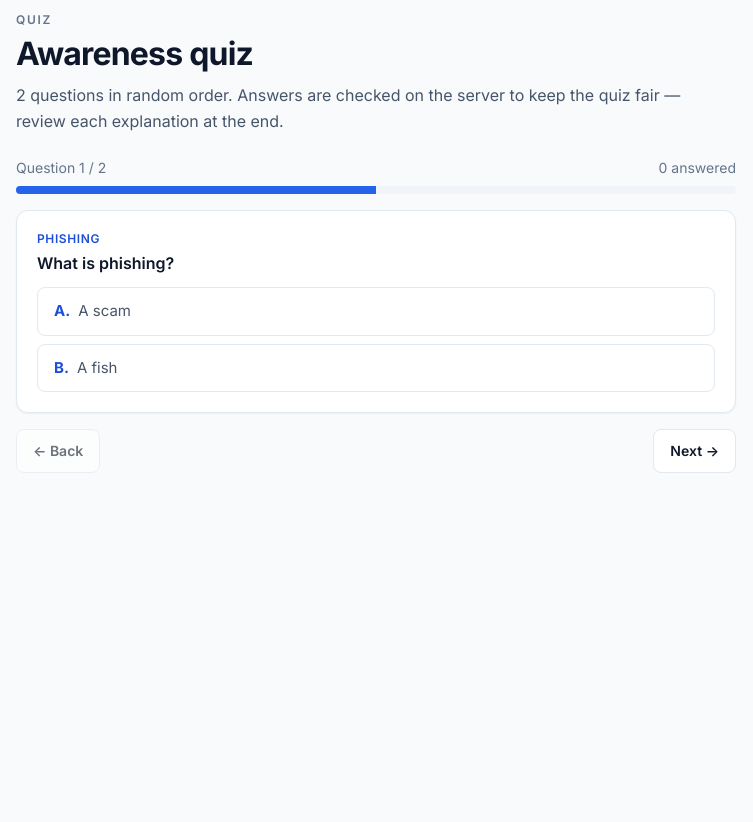
Test: quiz page › answering all questions and submitting shows the score
The width and height of the screenshot is (753, 822).
Expected: the text "What is phishing?" is shown, [37,253,174,273]
Click the button "A.A scam": [105, 310] box [37,287,715,336]
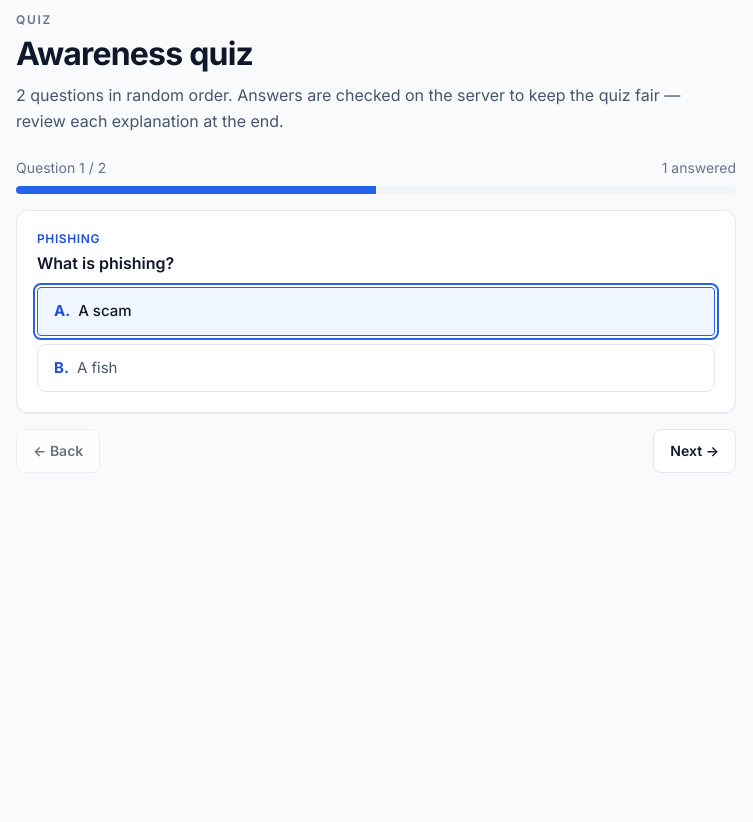
Click the button "Next →": [695, 451] box [653,429,736,473]
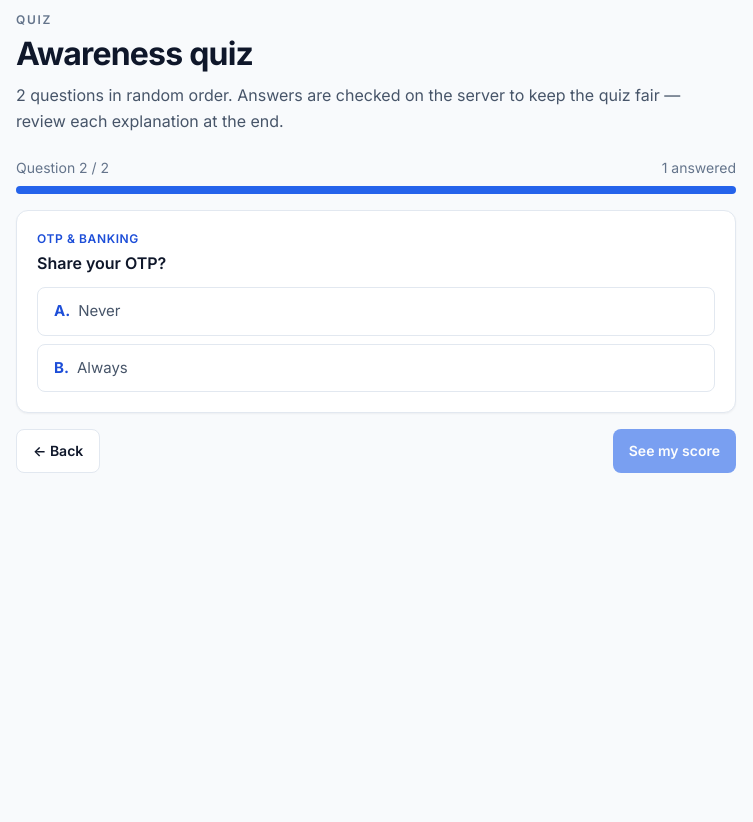
Click the button "A.Never": [99, 310] box [37,287,715,336]
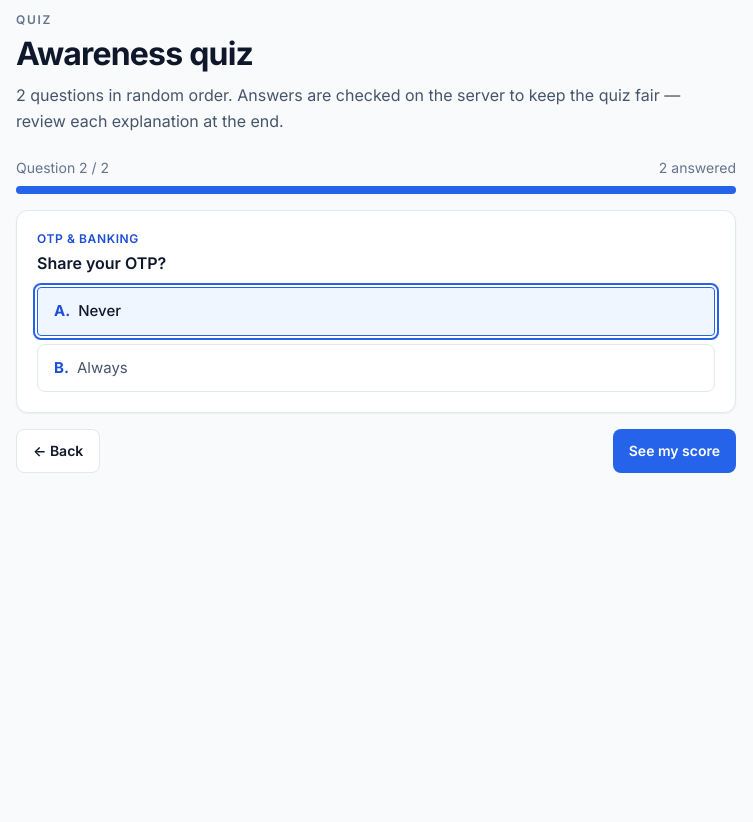
Click the button "See my score": [674, 451] box [613,429,736,473]
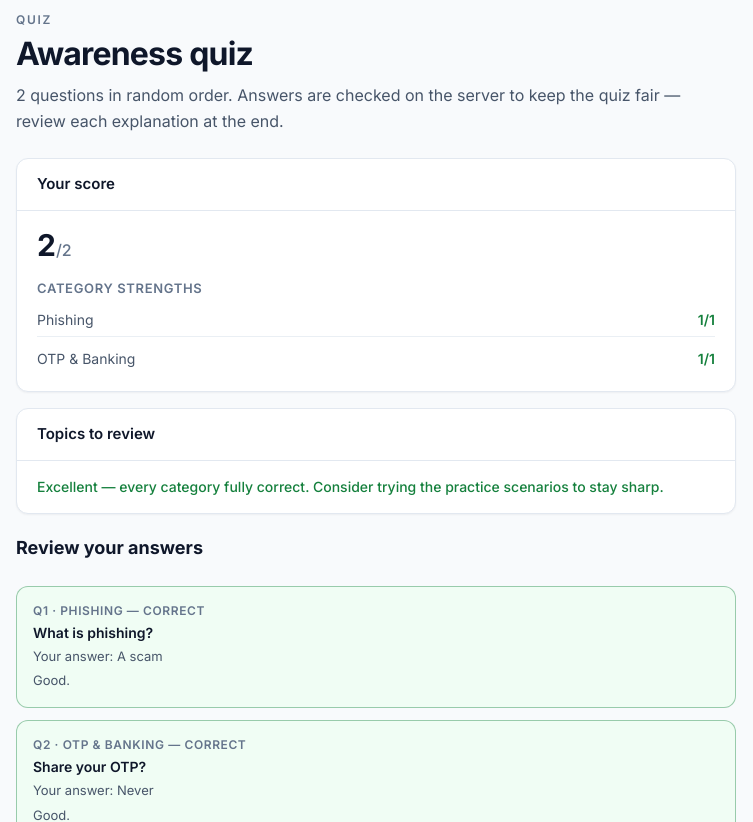
Result: the heading "Your score" is shown at [37,173,115,196]
Result: the text "Category strengths" is shown at [37,280,202,296]
Result: the heading "Review your answers" is shown at [16,536,203,558]
